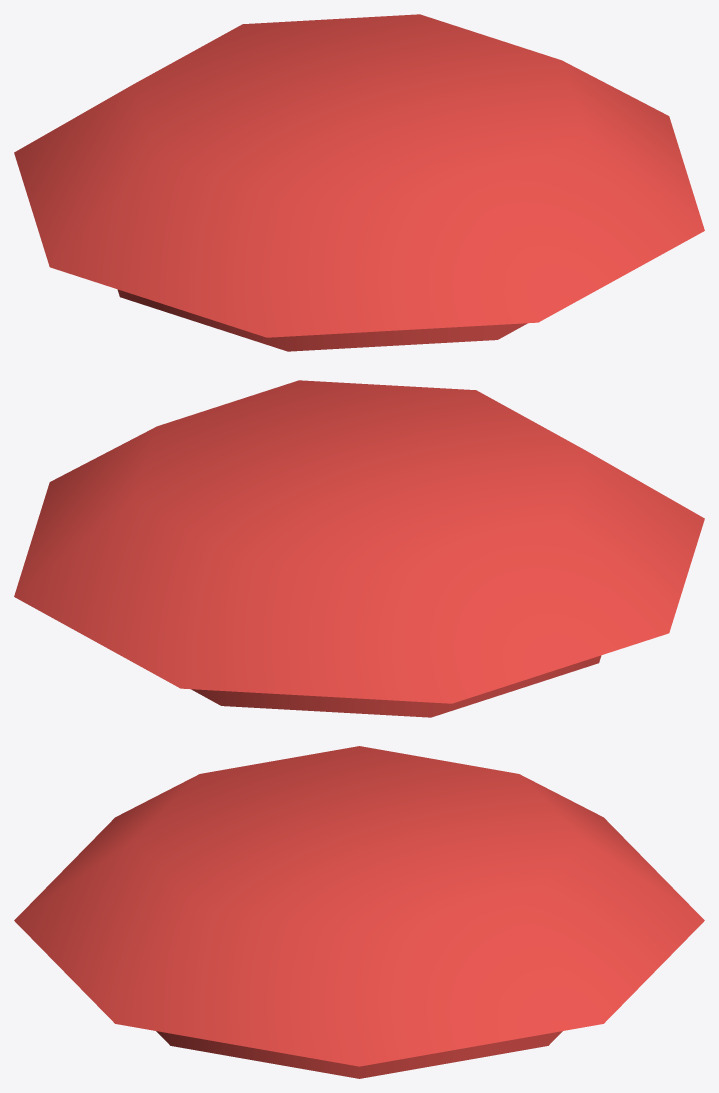
Rendered from マグネット.fbx.
The picture shows the model from 3 angles, top to bottom: view 1: azimuth 30°, elevation 25°; view 2: azimuth 150°, elevation 25°; view 3: azimuth 270°, elevation 25°; orthographic projection. The views are drawn at different scales.
Visible parts, largest first — view 1: 円柱; view 2: 円柱; view 3: 円柱.
Part boxes in pixels (left/top/right/bottom): 円柱: left=14, top=14, right=704, bottom=351; 円柱: left=14, top=380, right=704, bottom=717; 円柱: left=14, top=746, right=704, bottom=1078.
Bounding box in the file's own units: 0.0469 × 0.00934 × 0.0469.
